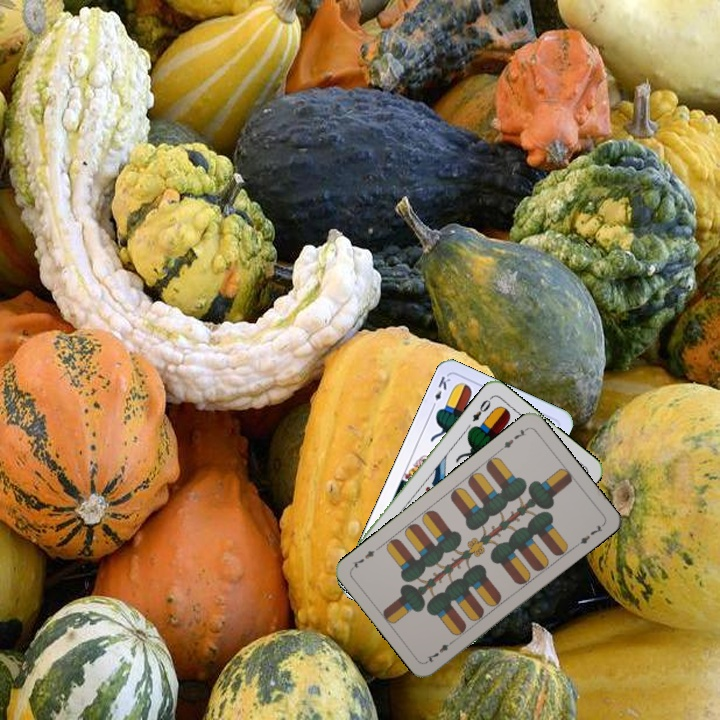E7: (496, 424, 530, 454), (423, 636, 457, 665)
EK: (428, 372, 453, 411)
EO: (468, 393, 495, 424)
